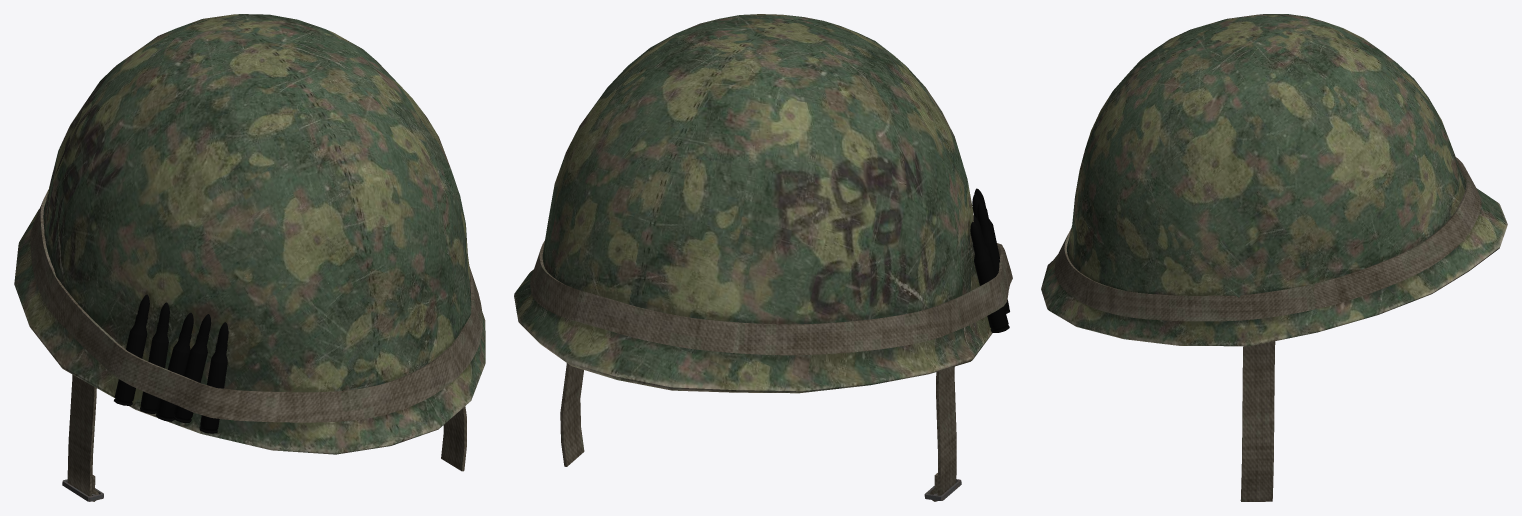
The model's file is helmet_light.glb.
3 views of the same model, side by side, from view 1: azimuth 30°, elevation 25°; view 2: azimuth 150°, elevation 25°; view 3: azimuth 270°, elevation 25° (orthographic). The views are drawn at different scales.
Parts seen in each view (by area): view 1: item; view 2: item; view 3: item.
Part boxes in pixels (<box>): item: <box>14,14,485,501</box>; item: <box>514,14,1012,501</box>; item: <box>1041,14,1507,501</box>.
Size of the model in its own units: 0.2422 by 0.2687 by 0.29.
6 materials, 6 textured.
